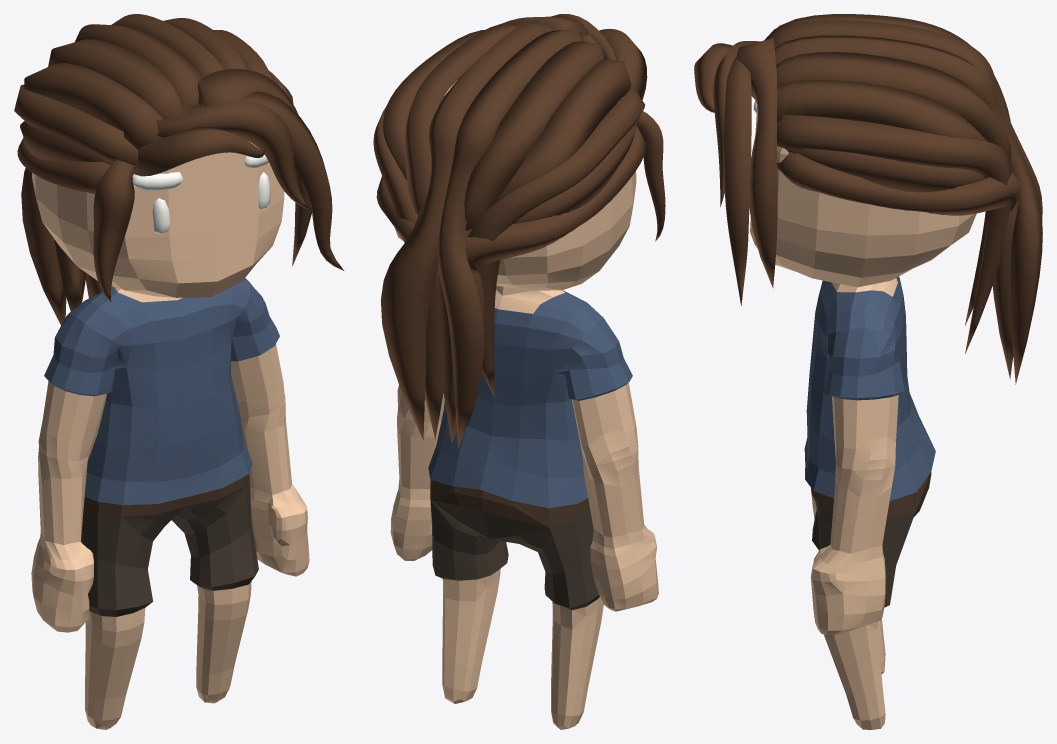
The model's file is debout-casual-female.glb.
The picture shows the model from 3 angles, left to right: view 1: azimuth 30°, elevation 25°; view 2: azimuth 150°, elevation 25°; view 3: azimuth 270°, elevation 25°; orthographic projection. The views are drawn at different scales.
Visible parts, largest first — view 1: Cube004, Cube004_5, Cube004_1, Cube004_2, Cube004_4, Cube004_3; view 2: Cube004_5, Cube004, Cube004_1, Cube004_2, Cube004_3; view 3: Cube004_5, Cube004, Cube004_1, Cube004_2, Cube004_3.
Part boxes in pixels (x1,y1,x2,y2): Cube004: [31, 142, 309, 729]; Cube004_5: [14, 14, 343, 325]; Cube004_1: [44, 278, 279, 504]; Cube004_2: [81, 478, 258, 616]; Cube004_4: [132, 154, 270, 234]; Cube004_3: [83, 474, 249, 516]; Cube004_5: [373, 14, 665, 448]; Cube004: [390, 80, 658, 729]; Cube004_1: [428, 290, 632, 508]; Cube004_2: [430, 499, 599, 609]; Cube004_3: [430, 480, 590, 528]; Cube004_5: [694, 14, 1042, 384]; Cube004: [750, 106, 976, 729]; Cube004_1: [804, 276, 935, 500]; Cube004_2: [812, 489, 928, 607]; Cube004_3: [811, 472, 931, 517].
Bounding box in the file's own units: 0.6683 × 1.64 × 0.7701.
